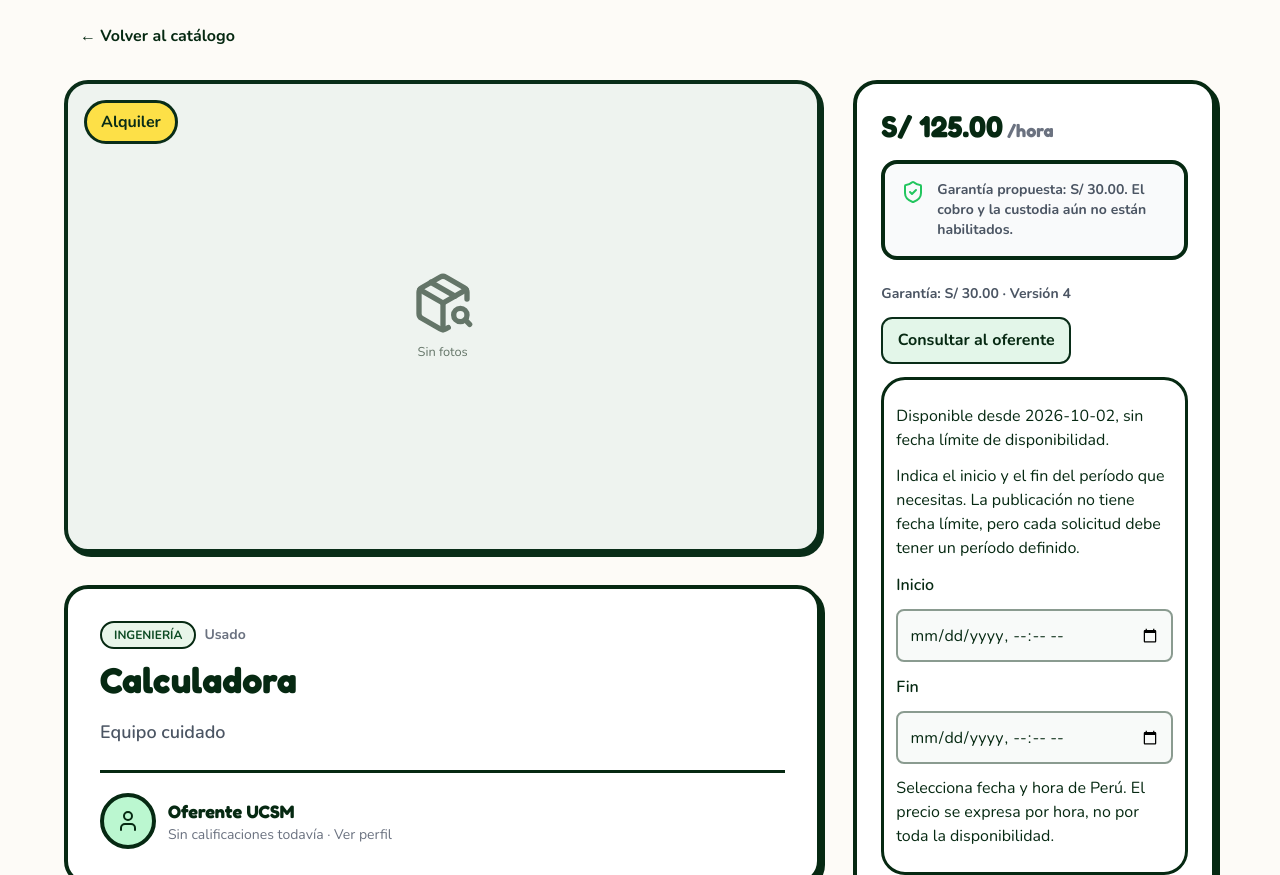
Test case: offers a rental amount per published unit without changing its guarantee or selected dates
Expected: the heading "Calculadora" is shown, [100,658,297,701]
Type "2026-10-20T09:00" into the field labelled "Inicio" at x=1035, y=636, box [896,609,1173,662]
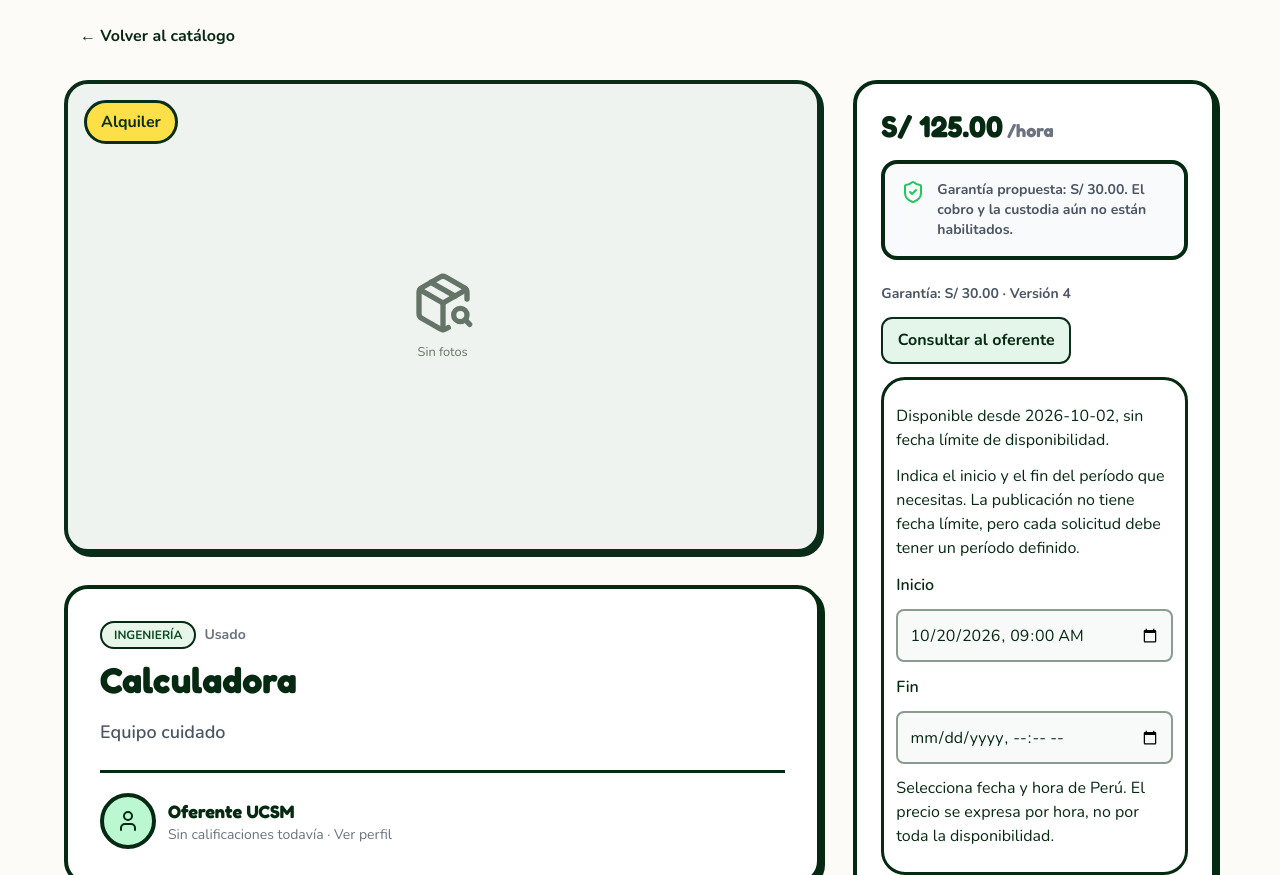
Type "2026-10-20T10:00" into the field labelled "Fin" at x=1035, y=738, box [896,711,1173,764]
(page scrolled)
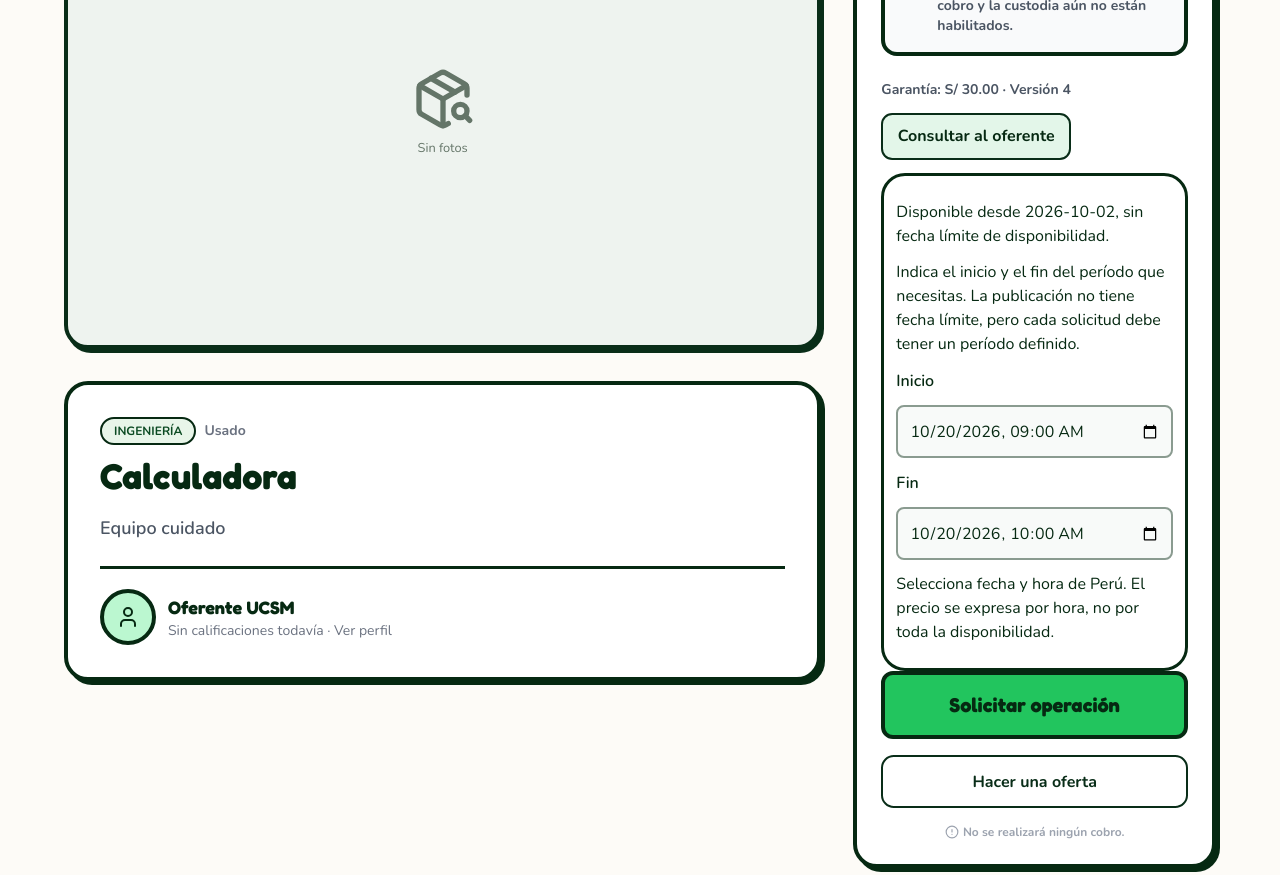
Click the button "Hacer una oferta" at x=1035, y=782, box [881,755,1188,808]
(page scrolled)
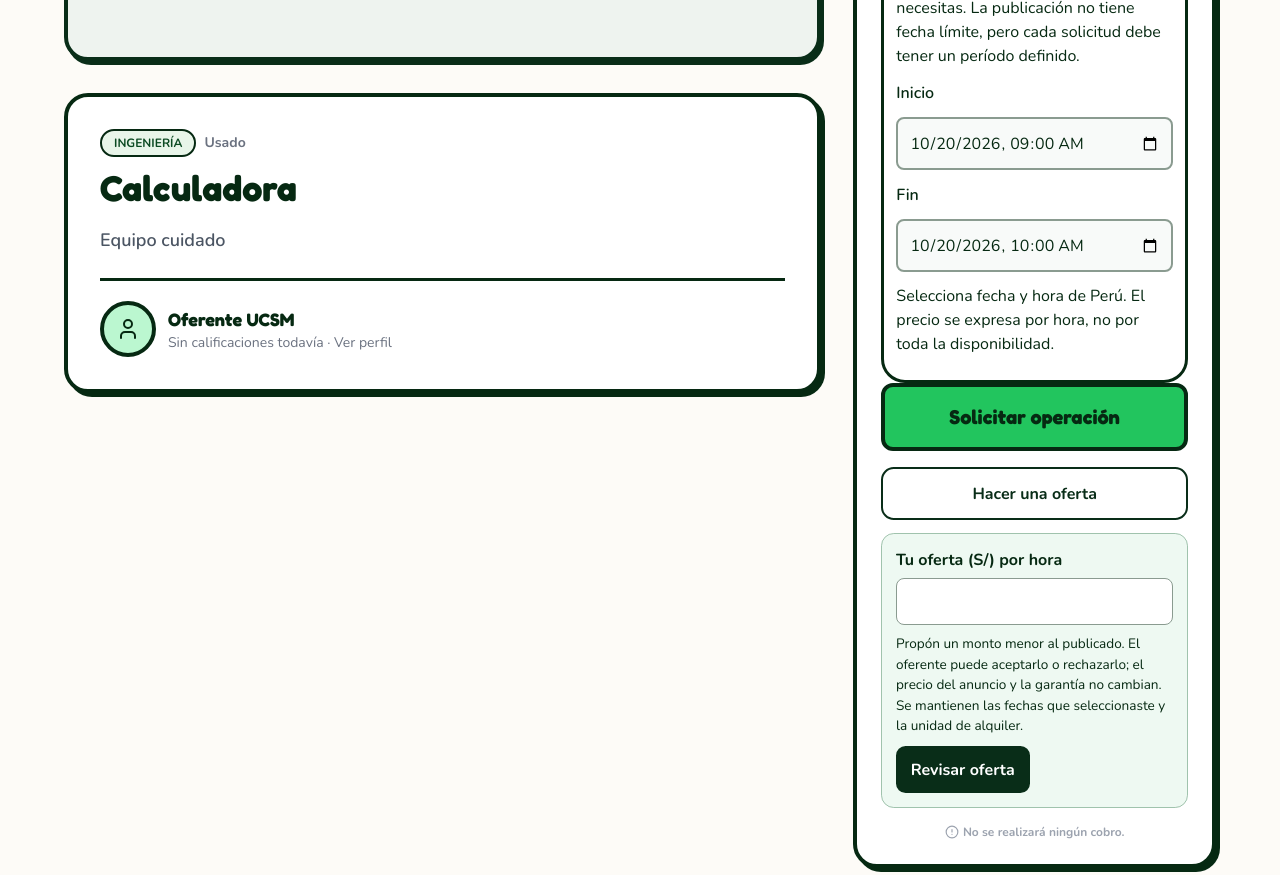
Type "100" into the number field labelled "Tu oferta (S/) por hora" at x=1035, y=602, box [896,578,1173,625]
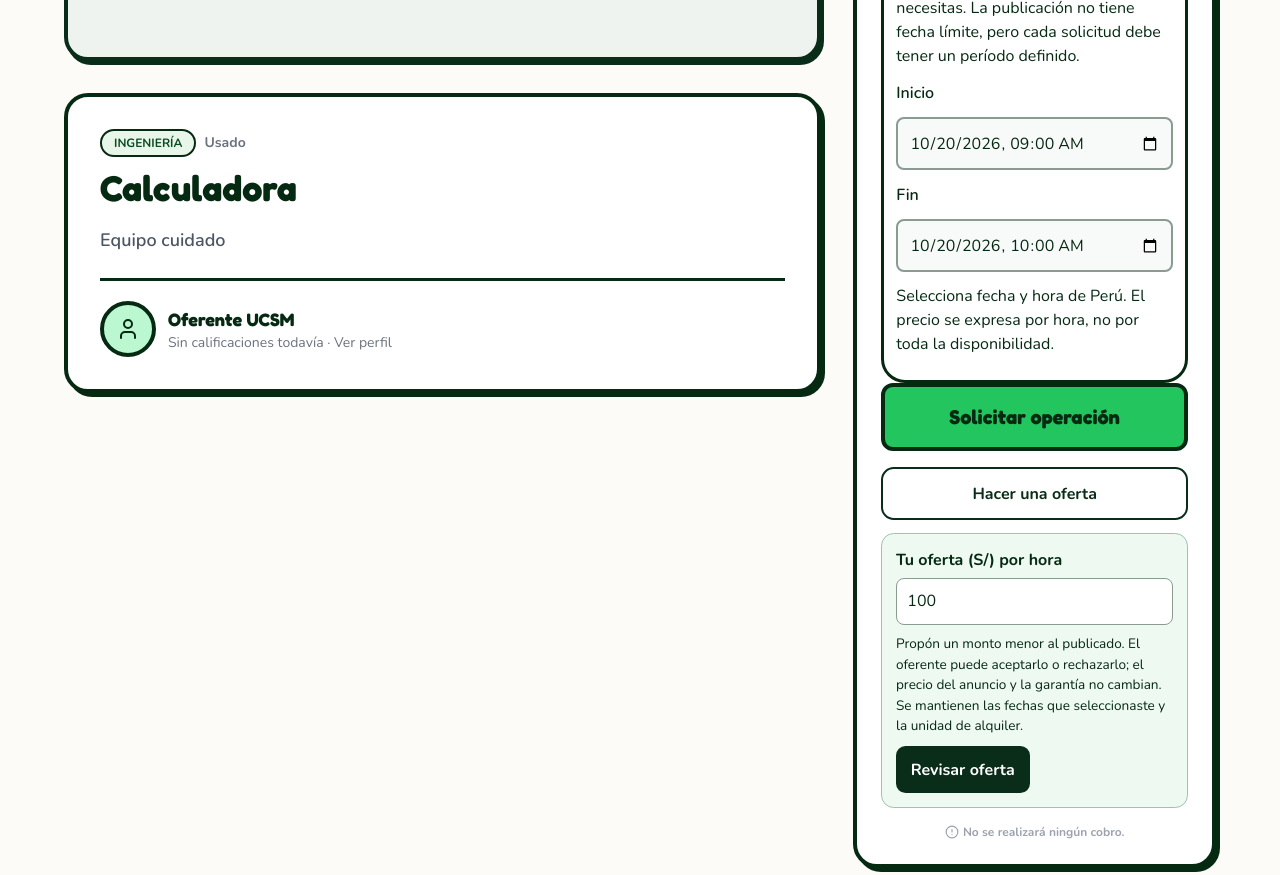
Click the button "Revisar oferta" at x=963, y=770, box [896,746,1030,793]
(page scrolled)
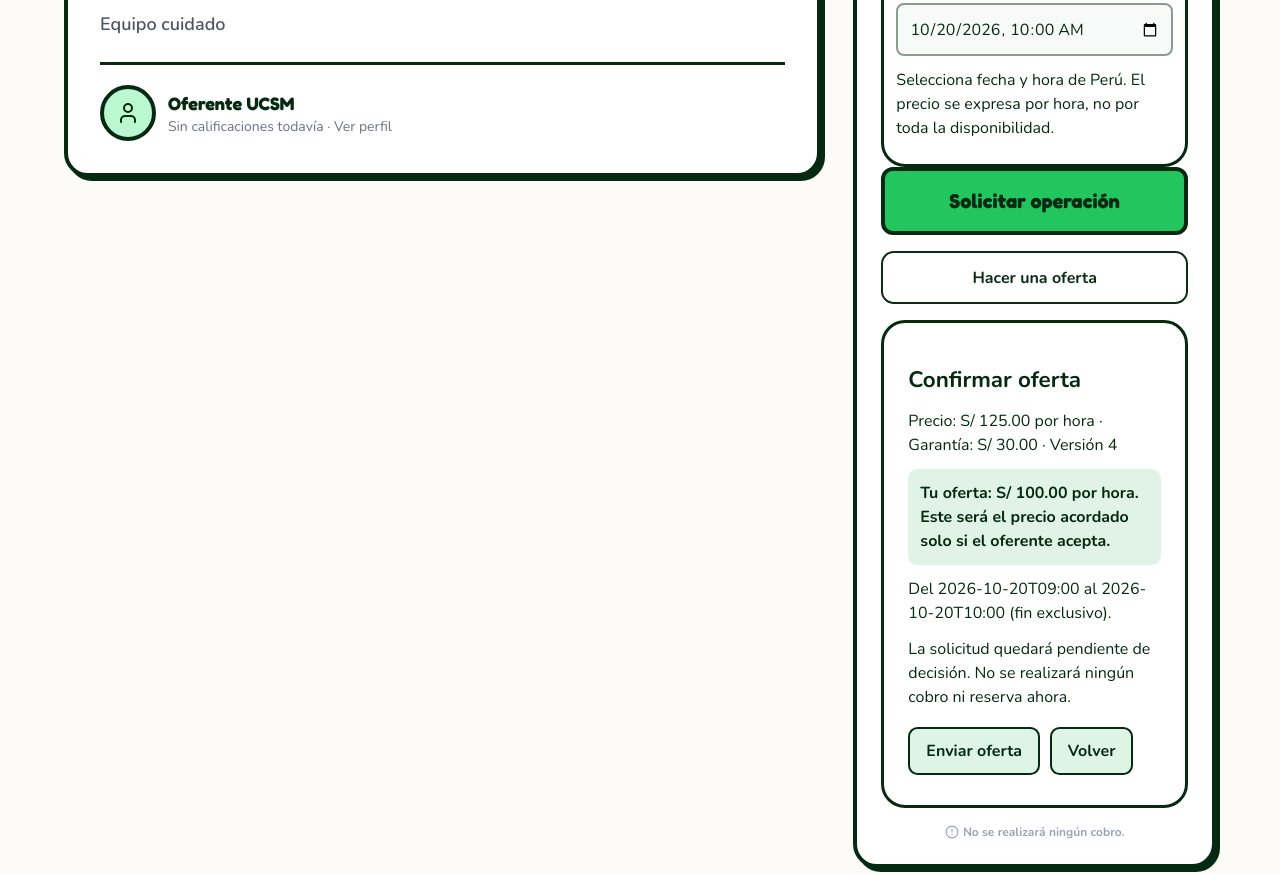
Now the dialog shows "Tu oferta: S/ 100.00 por hora", box [881,320,1188,808]
Click the button "Enviar oferta" at x=974, y=751, box [908,727,1040,774]
(page scrolled)
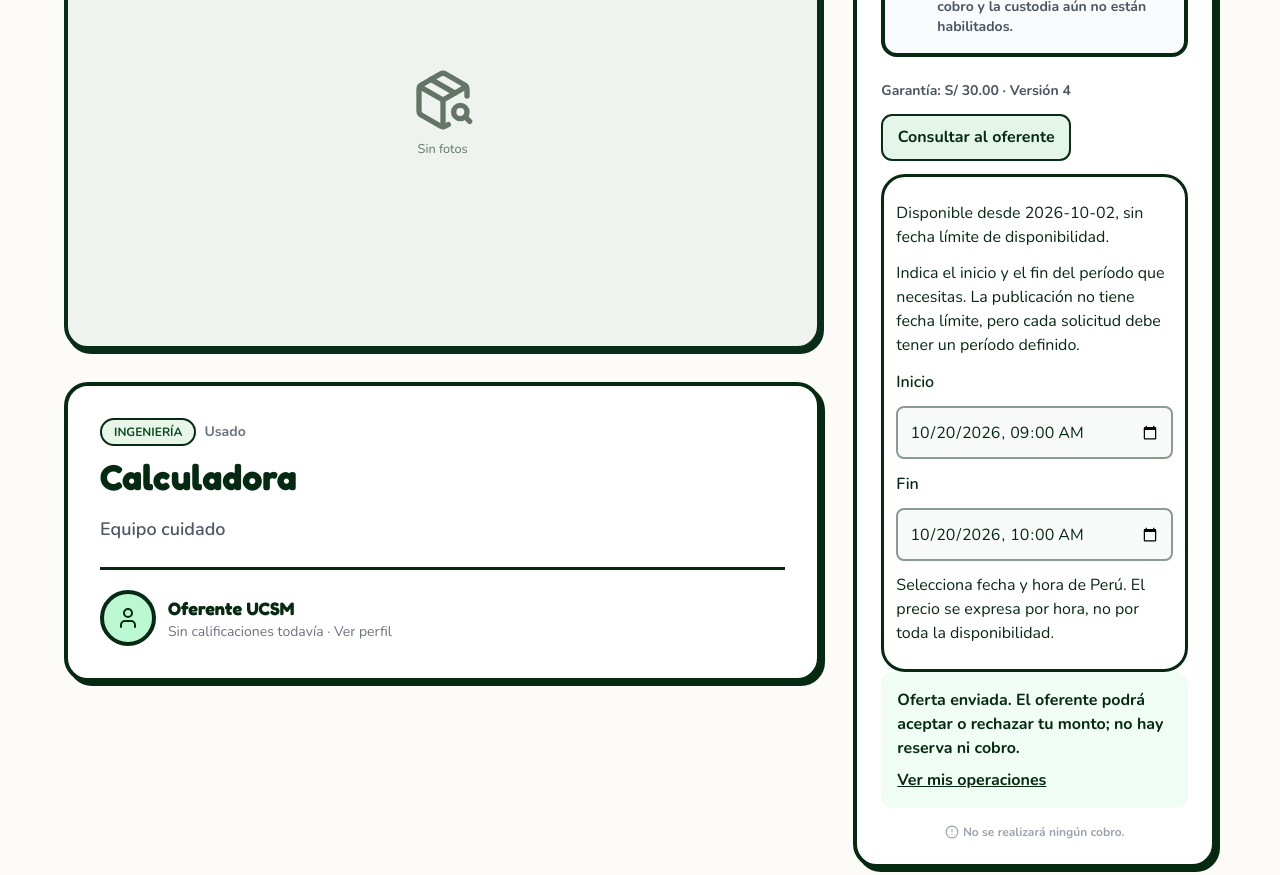
Now the text "Oferta enviada" is shown, box [897,689,1163,759]
